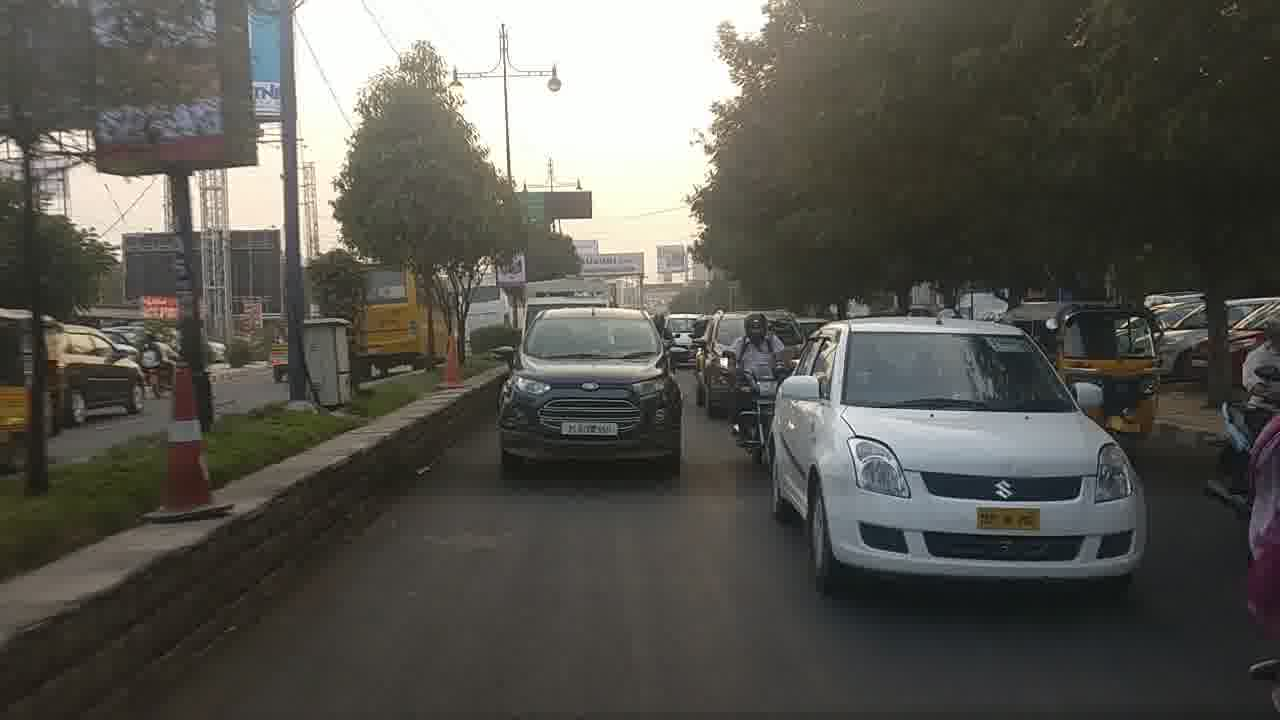swift desire: (776, 325, 1145, 574)
